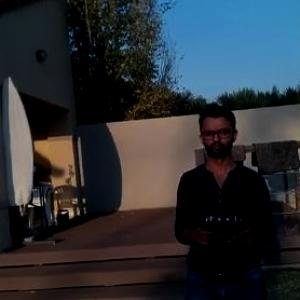follow: (166, 95, 282, 299)
